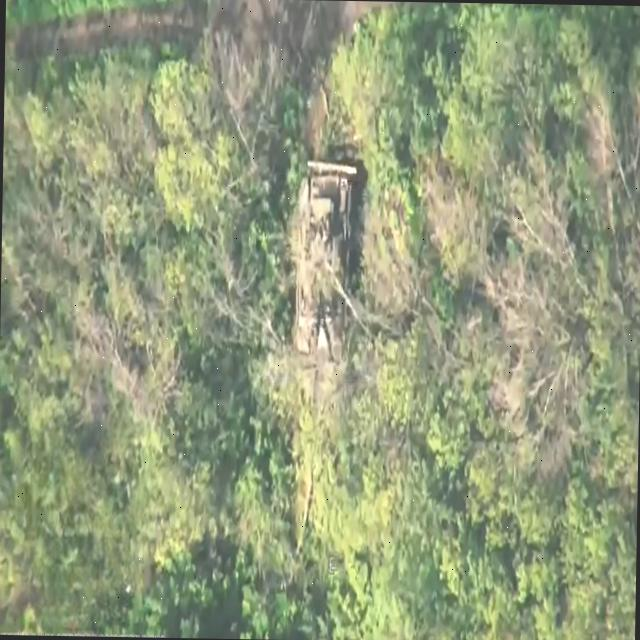MBT: (291, 168, 355, 393)
